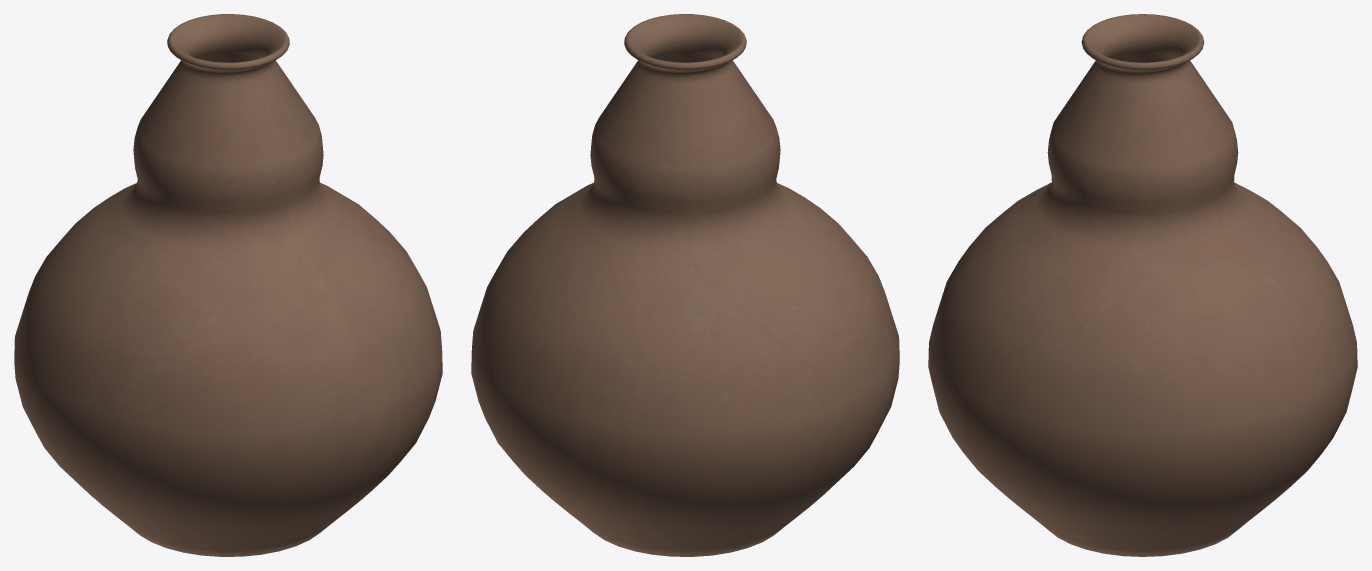
File: Pots_4.fbx
3 views of the same model, side by side, from view 1: azimuth 30°, elevation 25°; view 2: azimuth 150°, elevation 25°; view 3: azimuth 270°, elevation 25° (orthographic).
Parts seen in each view (by area): view 1: Circle.001; view 2: Circle.001; view 3: Circle.001.
Boxes of the visible parts, <box> form: Circle.001: <box>14,14,442,556</box>; Circle.001: <box>471,14,899,556</box>; Circle.001: <box>928,14,1357,556</box>.
Bounding box in the file's own units: 173 × 211 × 173.
